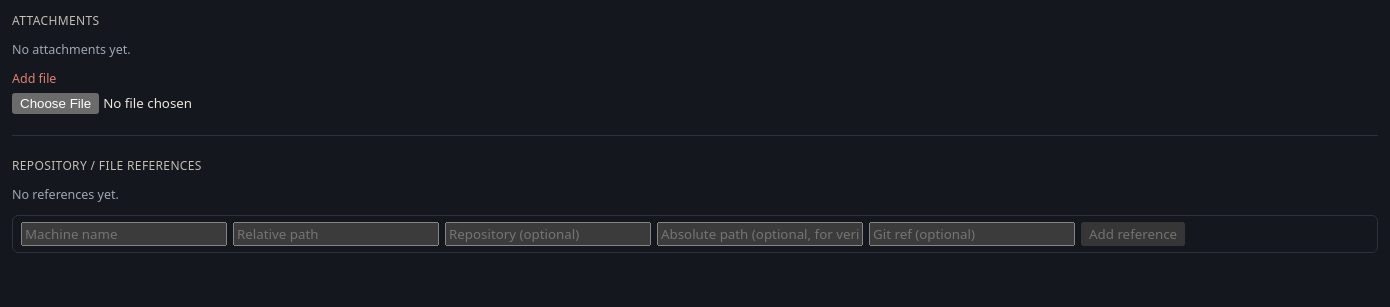
Test: FilesPanel › retains every reference draft field when creation is rejected
Expected: the text "No references yet." is shown, x1=12 y1=186 x2=119 y2=203
In the field labelled "Machine name": (124, 234) x1=21 y1=222 x2=227 y2=246, type "laptop"
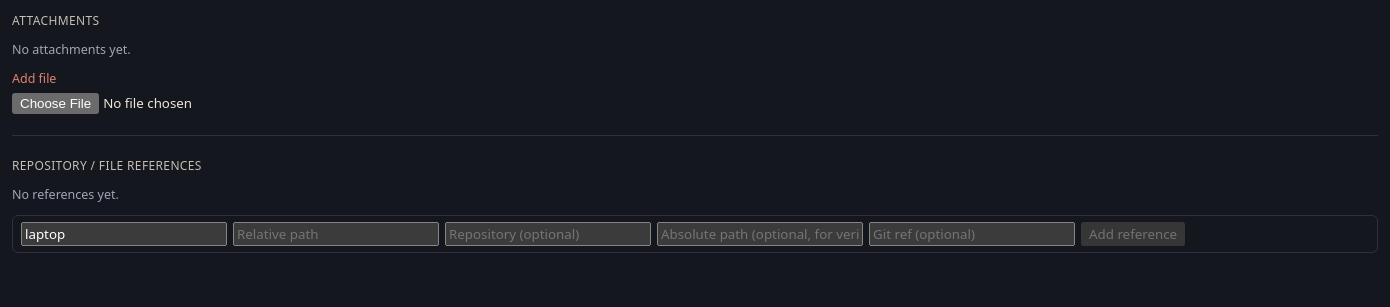
In the field labelled "Relative path": (336, 234) x1=233 y1=222 x2=439 y2=246, type "repo/README.md"
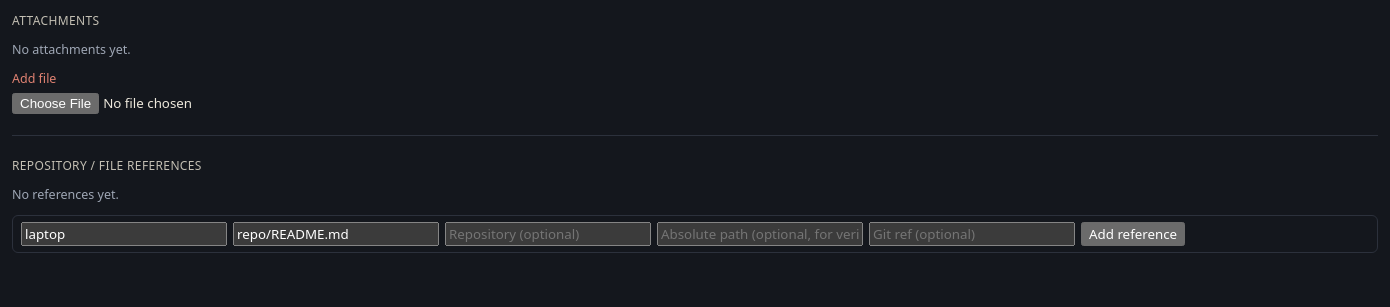
In the field named "repository name": (548, 234) x1=445 y1=222 x2=651 y2=246, type "apilex-agent"
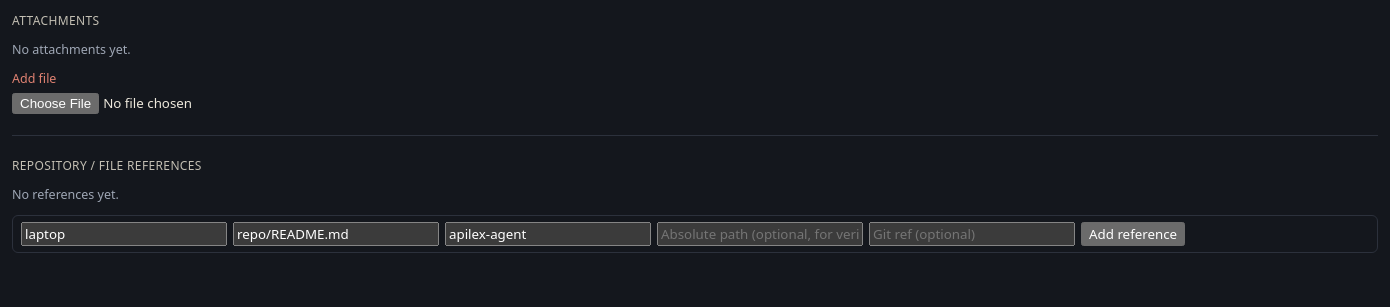
Click the button "Add reference": (1133, 234) x1=1081 y1=222 x2=1185 y2=246
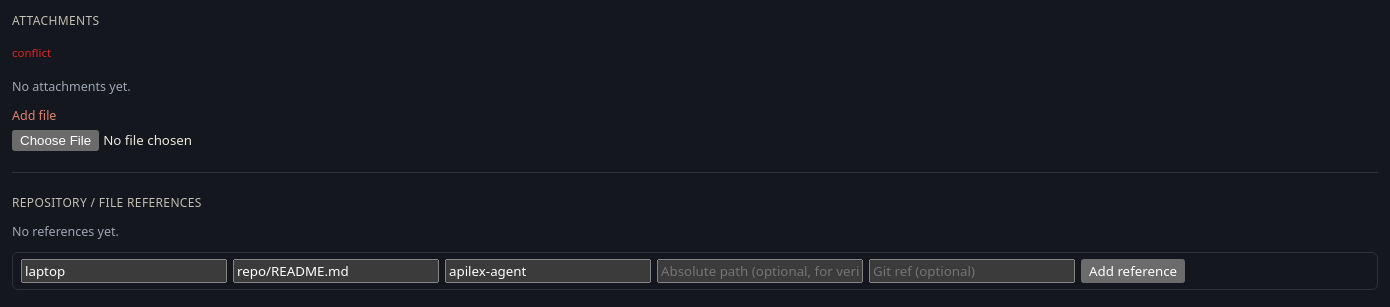
Expected: the text "conflict" is shown, x1=12 y1=45 x2=51 y2=60
